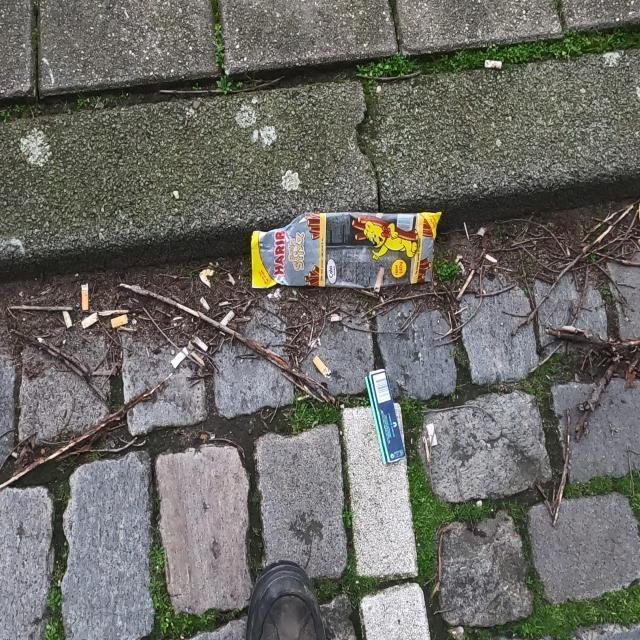Paper: (364, 368, 406, 466)
Plastic: (250, 210, 443, 290)
